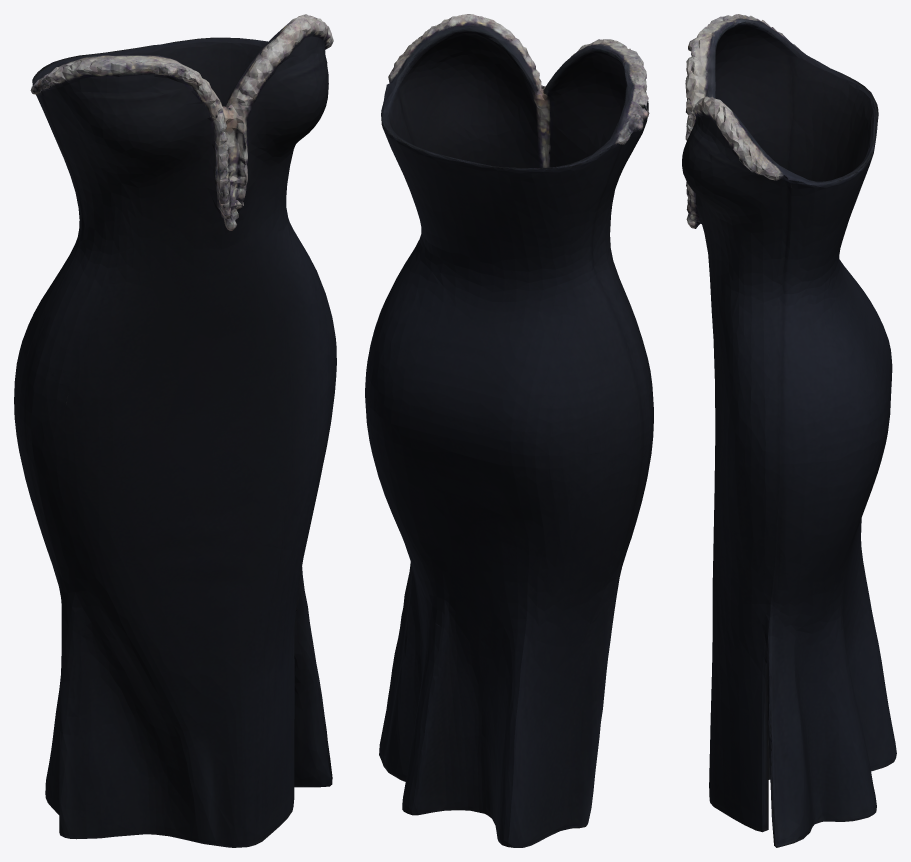
The model's file is Black_Strapless_Dress.glb.
The picture shows the model from 3 angles, left to right: view 1: azimuth 30°, elevation 25°; view 2: azimuth 150°, elevation 25°; view 3: azimuth 270°, elevation 25°; orthographic projection. The views are drawn at different scales.
Visible parts, largest first — view 1: world; view 2: world; view 3: world.
Boxes of the visible parts, left/top/right/bottom form: world: left=14, top=14, right=336, bottom=847; world: left=365, top=14, right=653, bottom=847; world: left=682, top=14, right=896, bottom=847.
Size of the model in its own units: 0.3852 by 0.9991 by 0.2683.
Materials: 1 (1 with a texture image).
